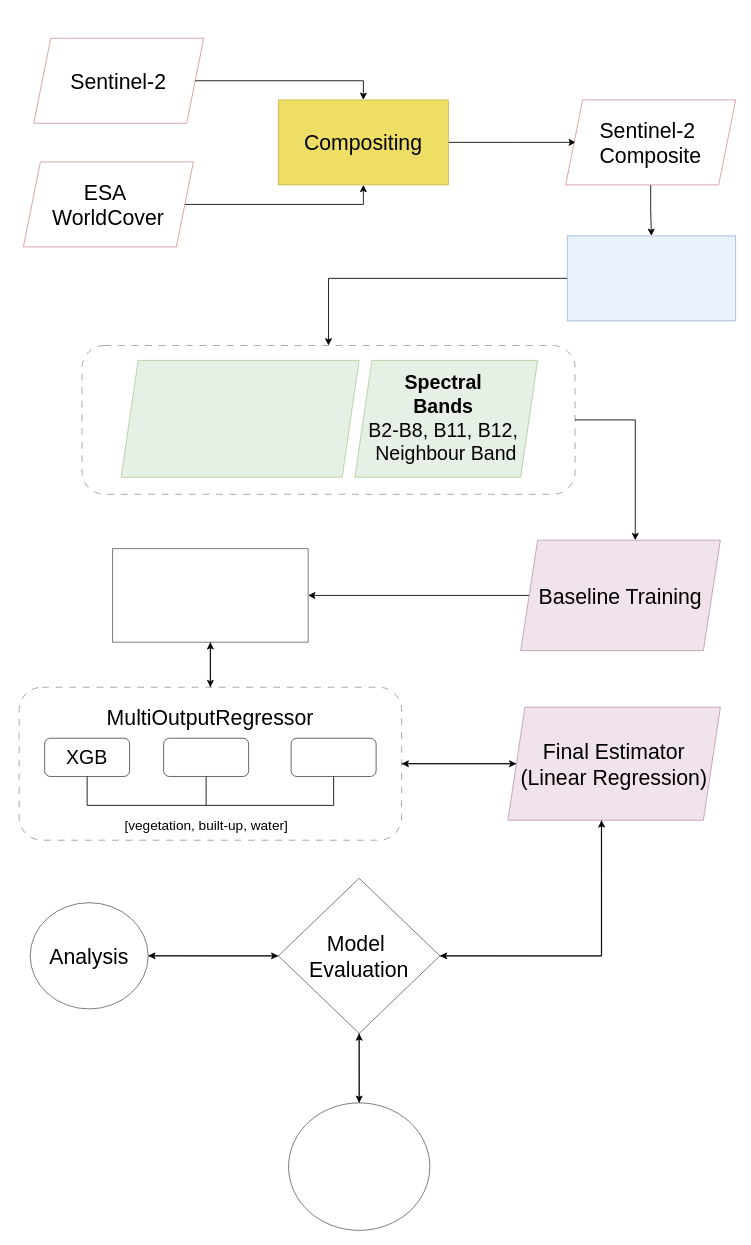
Some shapes in this 751 by 1245 pixel diagram are drawn without their labels. Each missing label, with the centre of its shape:
Dashboard: the point at 359,1166
Data Preprocessing: the point at 651,278
Feature Engineering NDVI, NDBI, NDWI, SAVI, EVI2, MNDBI: the point at 239,418
Hyperparameter Tuning & Model Selection: the point at 210,595
KNN: the point at 333,756
RF: the point at 206,756
